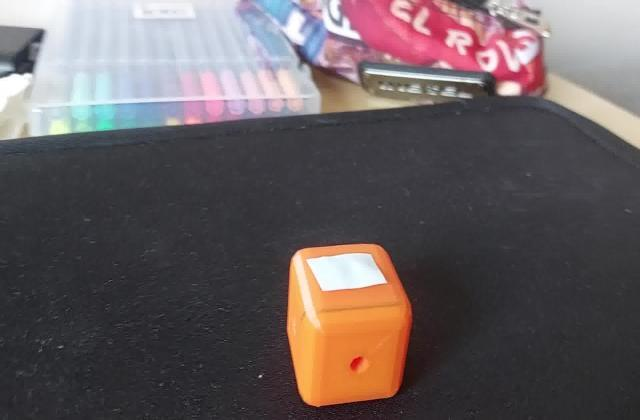cube: (281, 237, 416, 405)
white: (307, 254, 385, 301)
